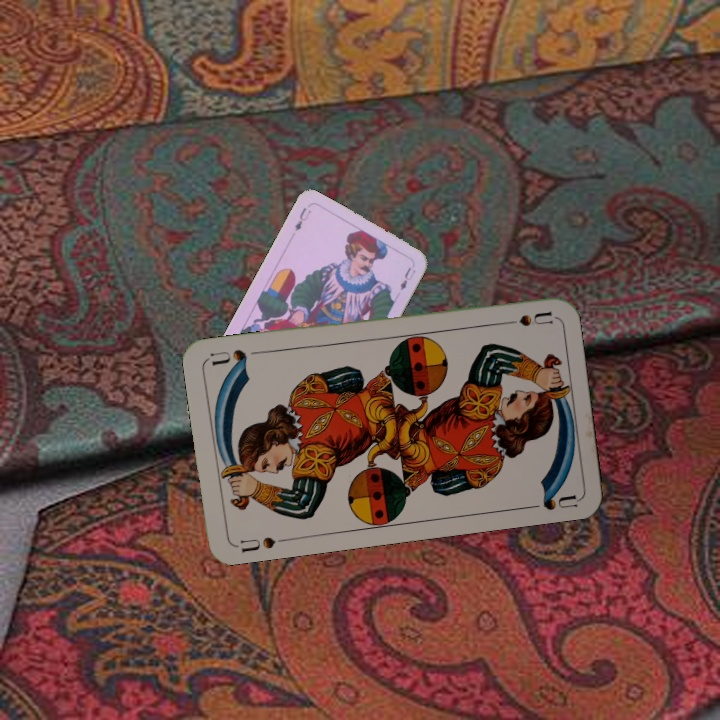EU: (290, 204, 314, 234)
SU: (231, 532, 290, 555), (494, 307, 554, 329)
